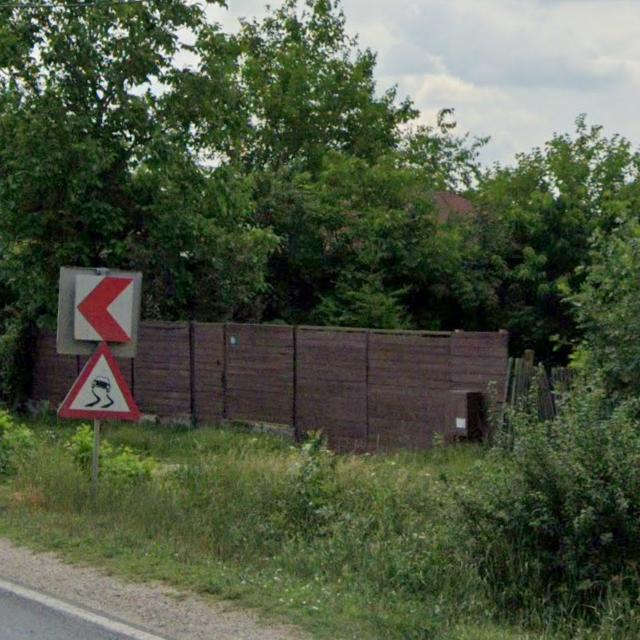warn_slippery_road: (56, 342, 142, 420)
